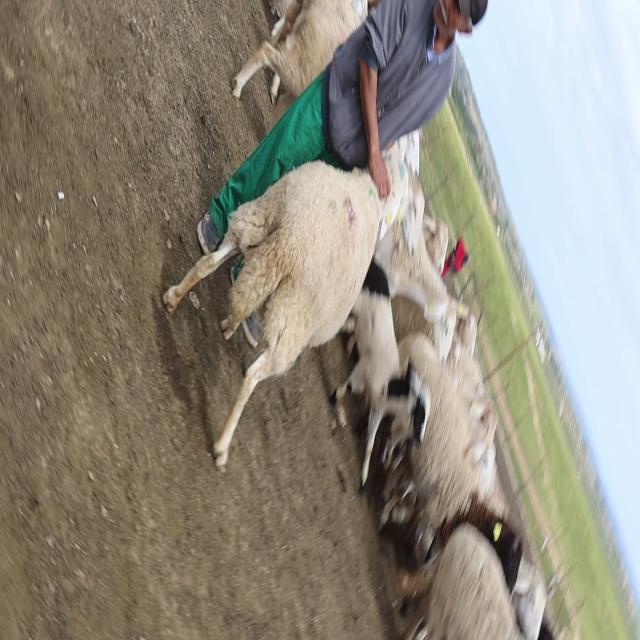Score_5: (163, 143, 408, 468)
